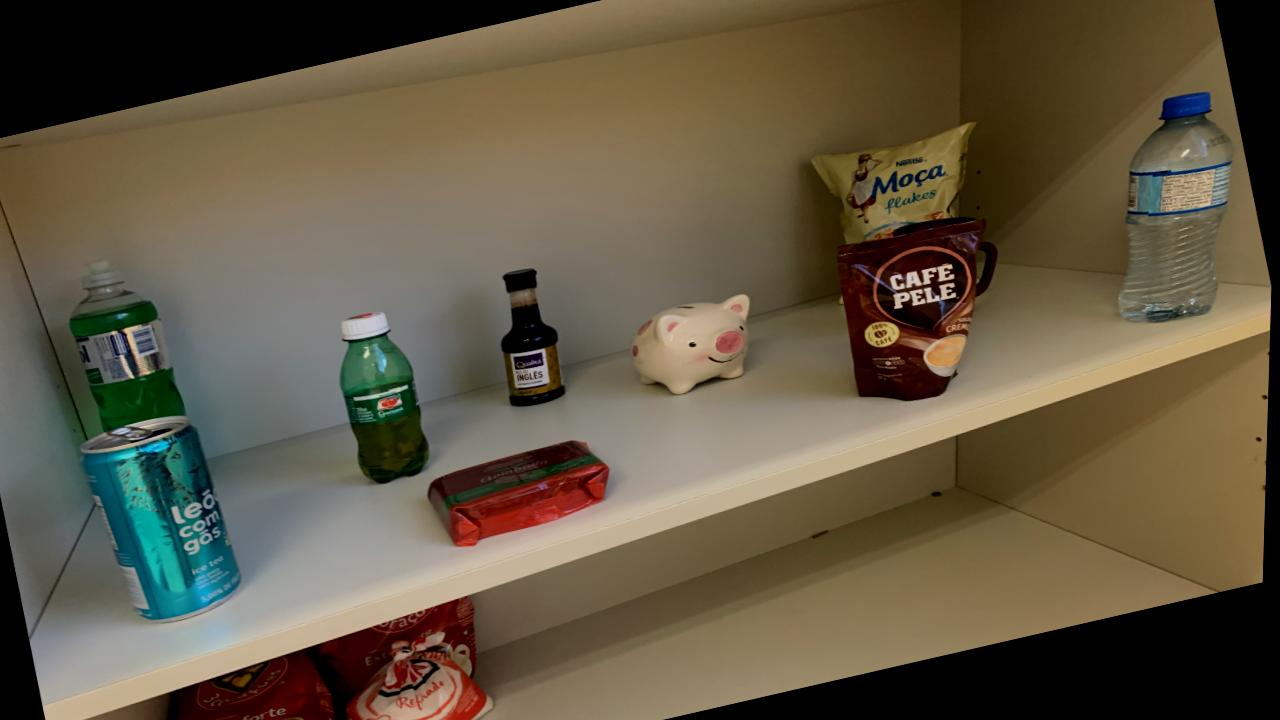Coffee-Pantry_Items: (838, 219, 986, 401)
Detergent-Cleanup_Items: (71, 260, 188, 430)
English_Sauce-Pantry_Items: (502, 268, 568, 406)
Flakes-Snacks: (813, 121, 976, 243)
Guarana-Drinks: (341, 312, 432, 483)
Guava-Snacks: (431, 439, 612, 546)
Pig_Safe-Miscellaneous: (633, 294, 752, 395)
Tea-Drinks: (83, 414, 244, 621)
Water_Bottle-Drinks: (1120, 92, 1235, 321)
